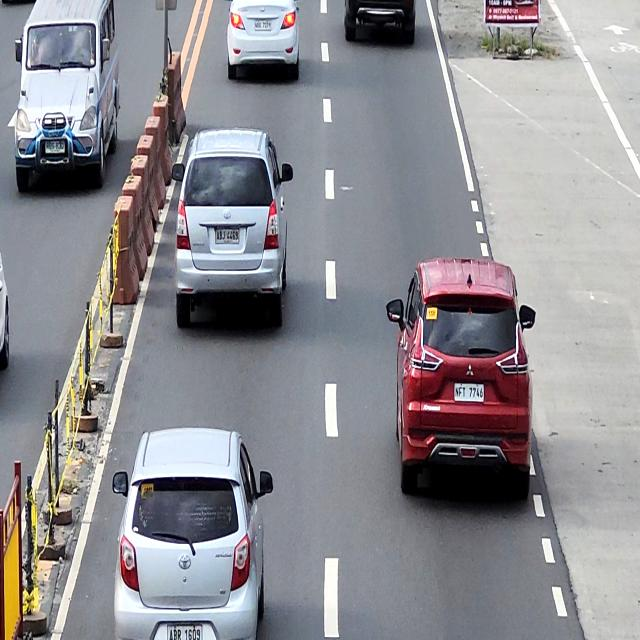Car: (386, 256, 536, 496), (112, 426, 273, 639), (172, 126, 294, 328), (227, 0, 300, 80), (343, 0, 416, 44)
Jeep: (8, 0, 120, 191)
License-Plate: (453, 380, 485, 402), (166, 624, 203, 640), (214, 228, 240, 245), (46, 140, 66, 153), (253, 19, 272, 31)
